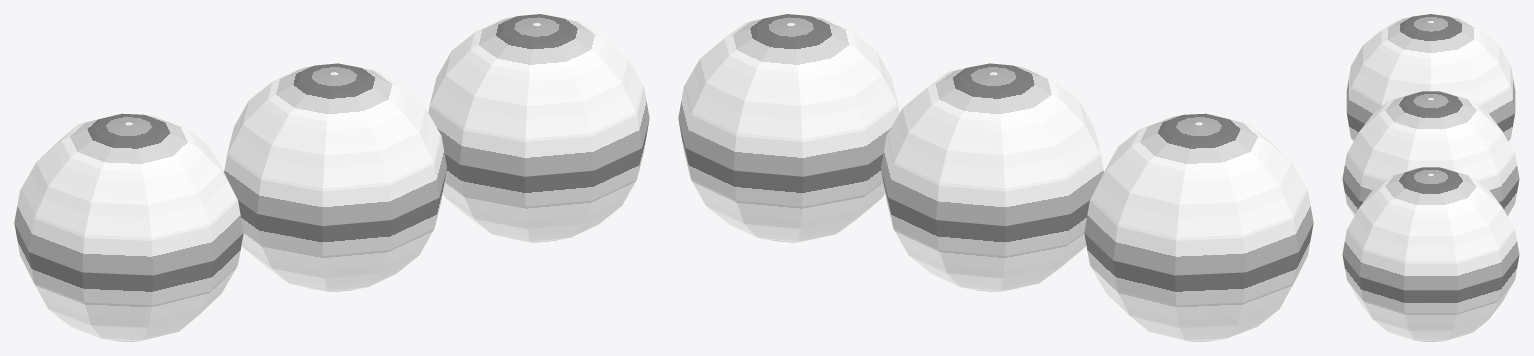
File: website.glb
3 renders of one model, left to right at view 1: azimuth 30°, elevation 25°; view 2: azimuth 150°, elevation 25°; view 3: azimuth 270°, elevation 25°, orthographic. The views are drawn at different scales.
Parts seen in each view (by area): view 1: Sphere1, Sphere2, Sphere3; view 2: Sphere1, Sphere2, Sphere3; view 3: Sphere3, Sphere1, Sphere2.
Part boxes in pixels (box(x1,y1,x2,y2)): Sphere1: box(14, 113, 243, 341); Sphere2: box(224, 63, 446, 291); Sphere3: box(428, 14, 649, 242); Sphere1: box(1084, 113, 1313, 341); Sphere2: box(881, 63, 1103, 291); Sphere3: box(678, 14, 899, 242); Sphere3: box(1342, 167, 1519, 341); Sphere1: box(1346, 14, 1515, 141); Sphere2: box(1342, 91, 1519, 216).
Bounding box in the file's own units: 591 × 196 × 196.
3 materials, 2 textured.
